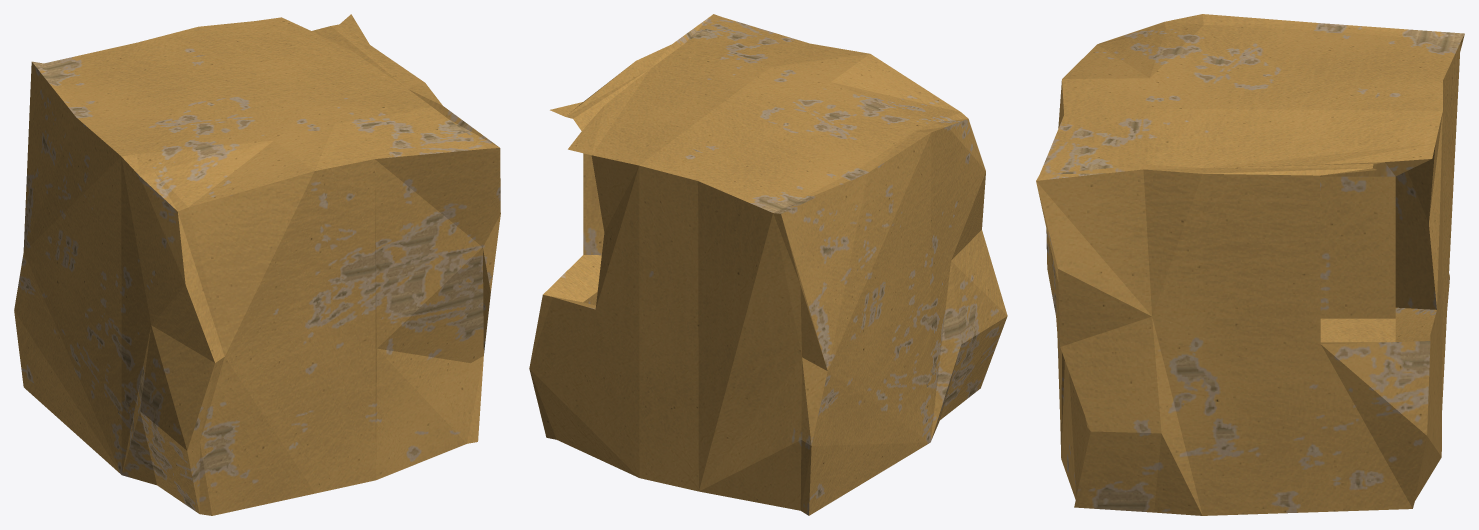
3 renders of one model, left to right at view 1: azimuth 30°, elevation 25°; view 2: azimuth 150°, elevation 25°; view 3: azimuth 270°, elevation 25°, orthographic. The views are drawn at different scales.
Visible parts, largest first — view 1: BOX4; view 2: BOX4; view 3: BOX4.
Part boxes in pixels (x1,y1,x2,y2): BOX4: (14,14,500,515); BOX4: (529,14,1007,515); BOX4: (1036,14,1464,515).
Bounding box in the file's own units: 2.12 × 2.09 × 2.3.
Materials: 1 (1 with a texture image).
